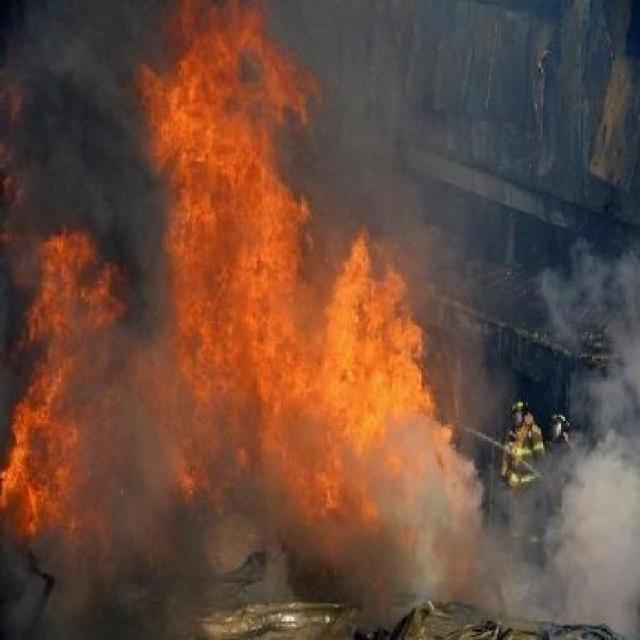Fire: (0, 56, 544, 583)
